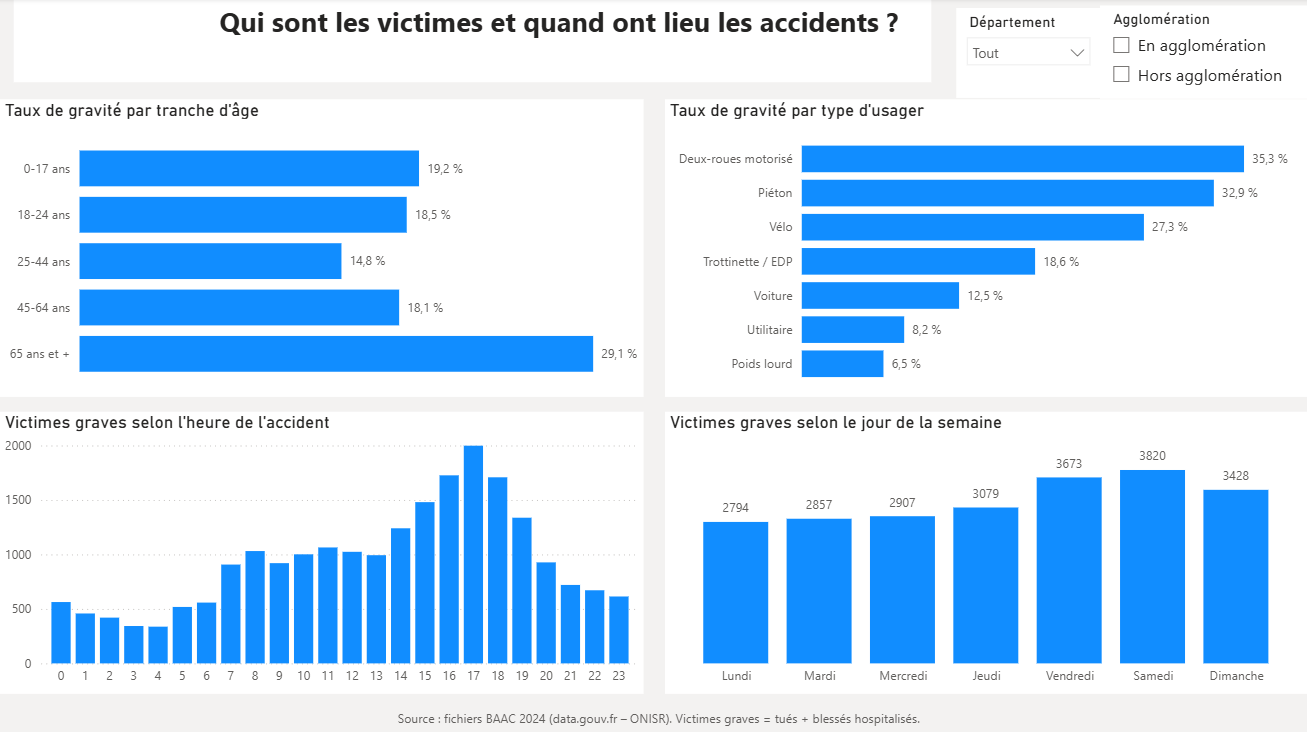

The dashboard page shown, as its layout file describes it:
{"tool":"powerbi","page":{"name":"Qui et quand ?","canvas":[1280,720],"ordinal":2},"visuals":[{"type":"slicer","fields":{"Values":["accidents_2024_clean.agglomeration"]},"box":[1075.9,7.3,204.1,91],"z":0},{"type":"slicer","fields":{"Values":["accidents_2024_clean.departement"]},"box":[935.3,10.3,141,88.1],"z":1000},{"type":"textbox","box":[12.8,0,897.8,82.8],"z":2000},{"type":"clusteredBarChart","title":"Taux de gravité par tranche d''âge","fields":{"Y":["_Mesures.Taux de gravité"],"Category":["accidents_2024_clean.tranche_age"]},"box":[0,98.5,629.4,291.2],"z":5000},{"type":"clusteredBarChart","title":"Taux de gravité par type d''usager","fields":{"Y":["_Mesures.Taux de gravité"],"Category":["accidents_2024_clean.type_usager"]},"box":[650.5,98.5,629.8,291],"z":5001},{"type":"clusteredColumnChart","title":"Victimes graves selon l''heure de l''accident","fields":{"Category":["accidents_2024_clean.heure"],"Y":["_Mesures.Victimes graves"]},"box":[0,404.8,629.8,276.4],"z":5002},{"type":"clusteredColumnChart","title":"Victimes graves selon le jour de la semaine","fields":{"Y":["_Mesures.Victimes graves"],"Category":["accidents_2024_clean.jour_semaine"]},"box":[650.5,404.8,629.8,276.4],"z":5003},{"type":"textbox","box":[100.3,689.7,1088.3,30.6],"z":5004}]}

Visuals, with their boxes in screenshot pixels (x1, y1, x2, y2), scaled from the page's 1280x720 canvas onto the 1307x732 screenshot:
slicer - accidents_2024_clean.agglomeration: (left=1099, top=7, right=1306, bottom=100)
slicer - accidents_2024_clean.departement: (left=955, top=10, right=1099, bottom=100)
textbox: (left=13, top=0, right=930, bottom=84)
"Taux de gravité par tranche d''âge" clusteredBarChart: (left=0, top=100, right=643, bottom=396)
"Taux de gravité par type d''usager" clusteredBarChart: (left=664, top=100, right=1306, bottom=396)
"Victimes graves selon l''heure de l''accident" clusteredColumnChart: (left=0, top=412, right=643, bottom=693)
"Victimes graves selon le jour de la semaine" clusteredColumnChart: (left=664, top=412, right=1306, bottom=693)
textbox: (left=102, top=701, right=1214, bottom=731)
